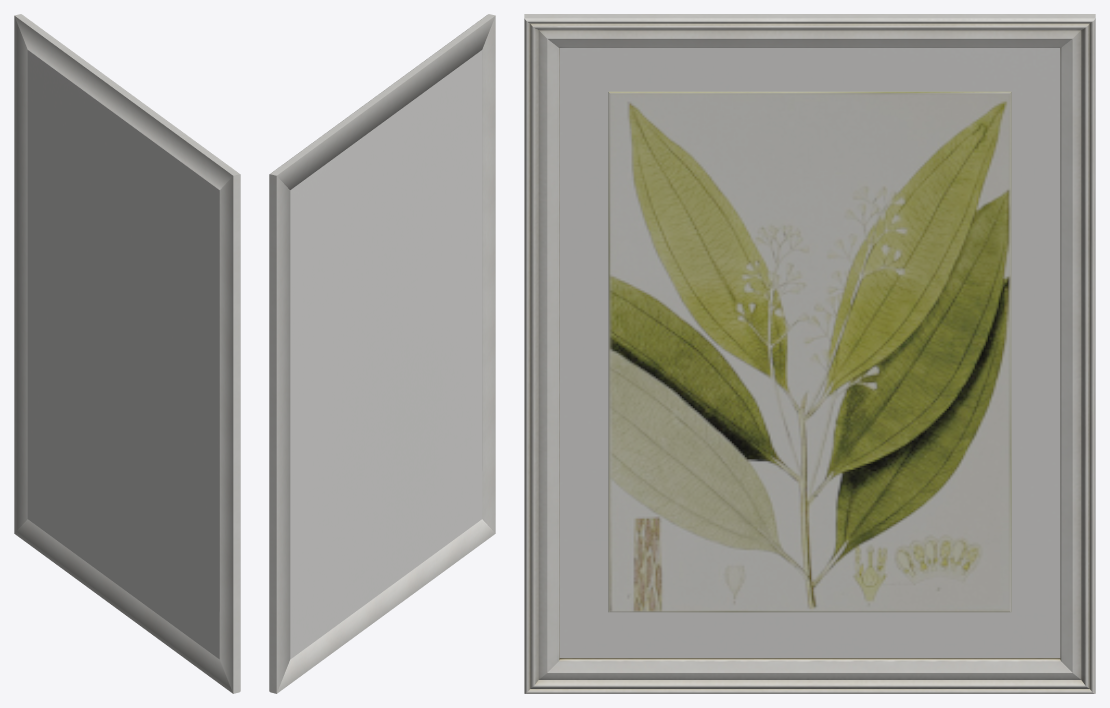
Rendered from Plantas de prueba.fbx.
3 views of the same model, side by side, from view 1: azimuth 30°, elevation 25°; view 2: azimuth 150°, elevation 25°; view 3: azimuth 270°, elevation 25° (orthographic). The views are drawn at different scales.
Visible parts, largest first — view 1: Object002; view 2: Object002; view 3: Object002.
Part boxes in pixels (x1,y1,x2,y2): Object002: (14, 14, 240, 693); Object002: (269, 14, 495, 693); Object002: (524, 14, 1095, 693).
Size of the model in its own units: 8.85 by 530 by 406.
1 material, 1 textured.
